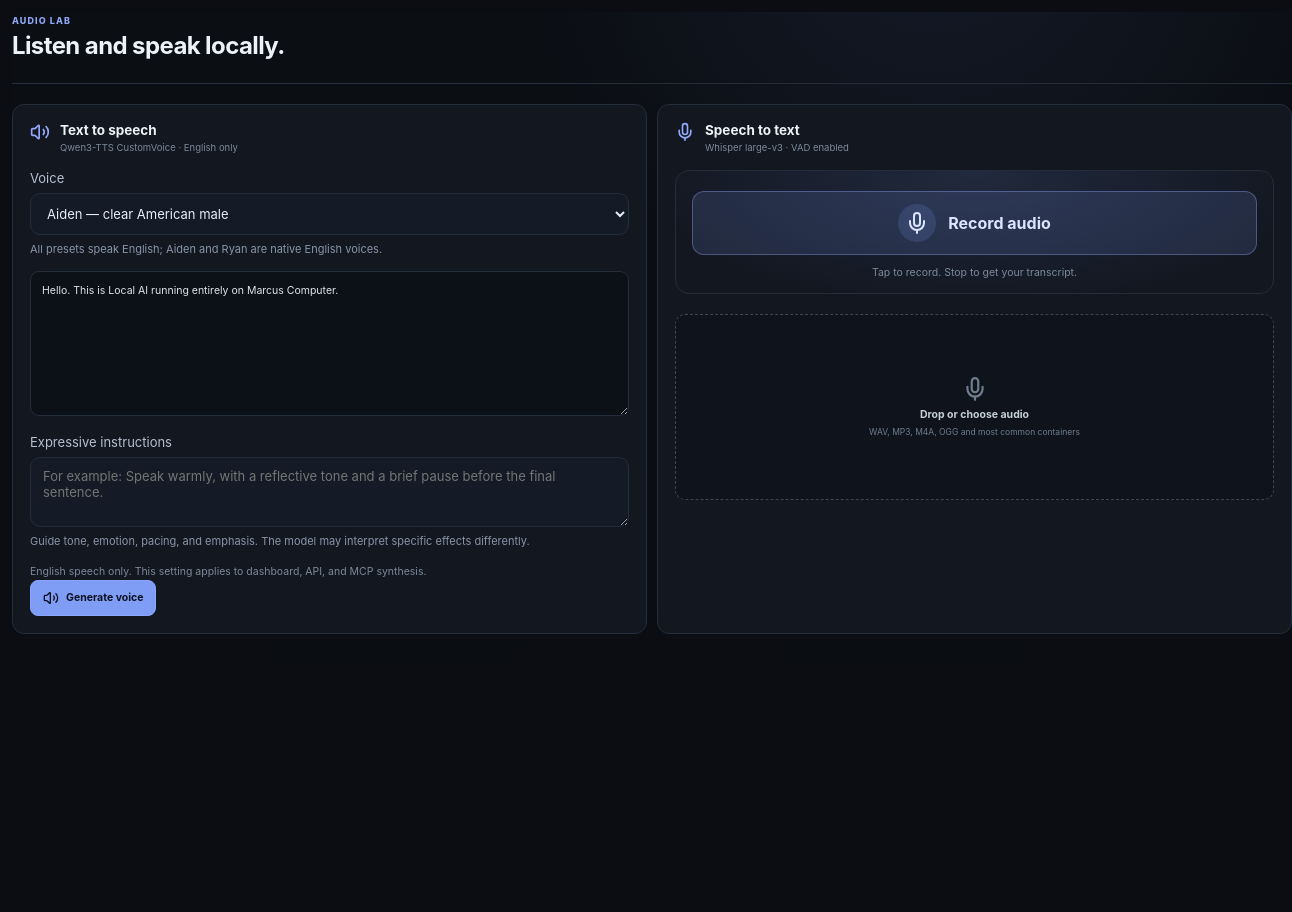
it: SpeechPanel microphone recording › discards a pending final audio event when unmounted while the recorder is stopping
The image size is (1292, 912).
What coordinates should you click on to do the following:
click the button "Record audio"
I would click on:
 (974, 223)
Its box is [692,191,1257,255].
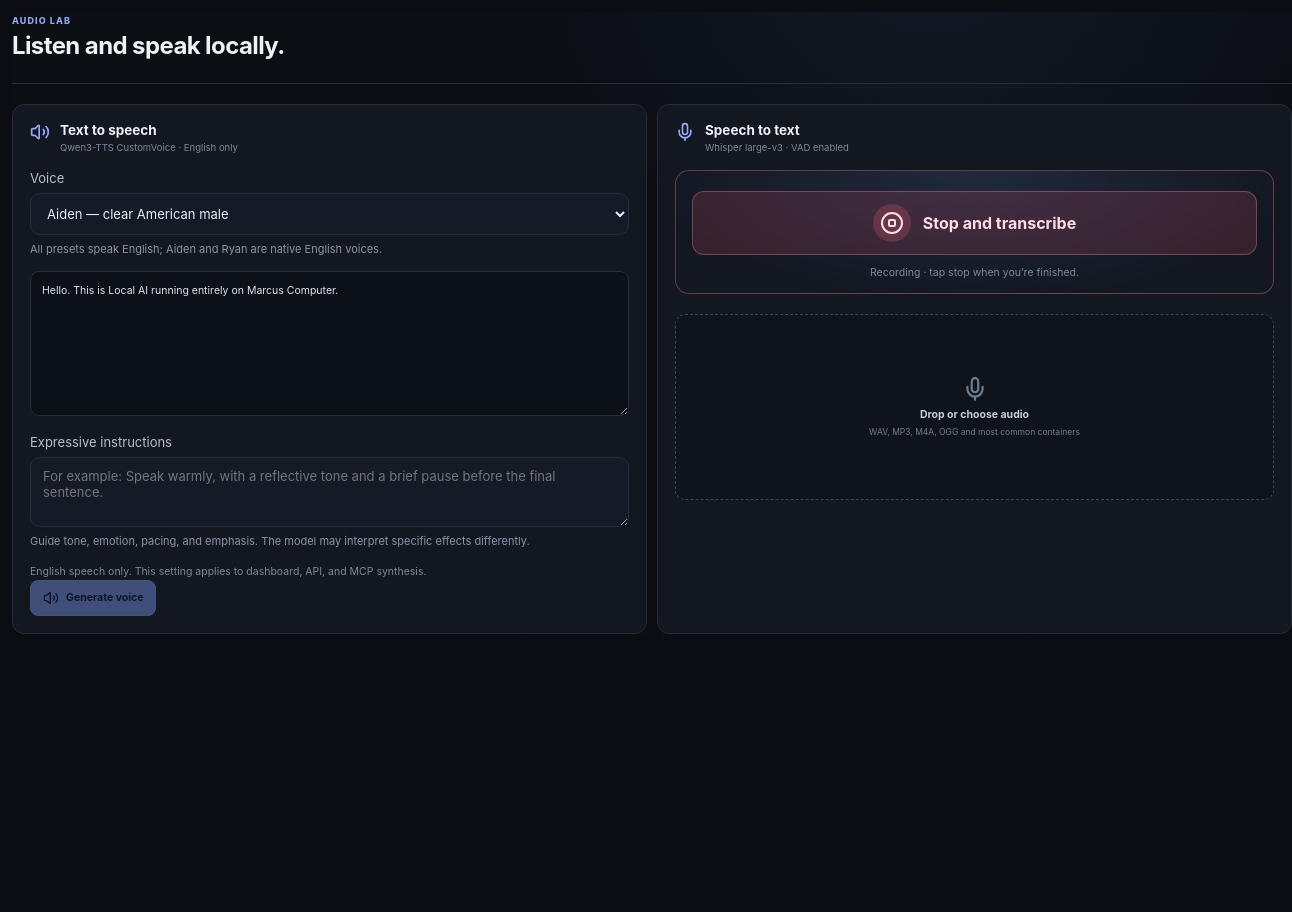
Expected: the button "Stop and transcribe" is shown
What coordinates should you click on to do the following:
click the button "Stop and transcribe"
I would click on:
 (974, 223)
Its box is [692,191,1257,255].
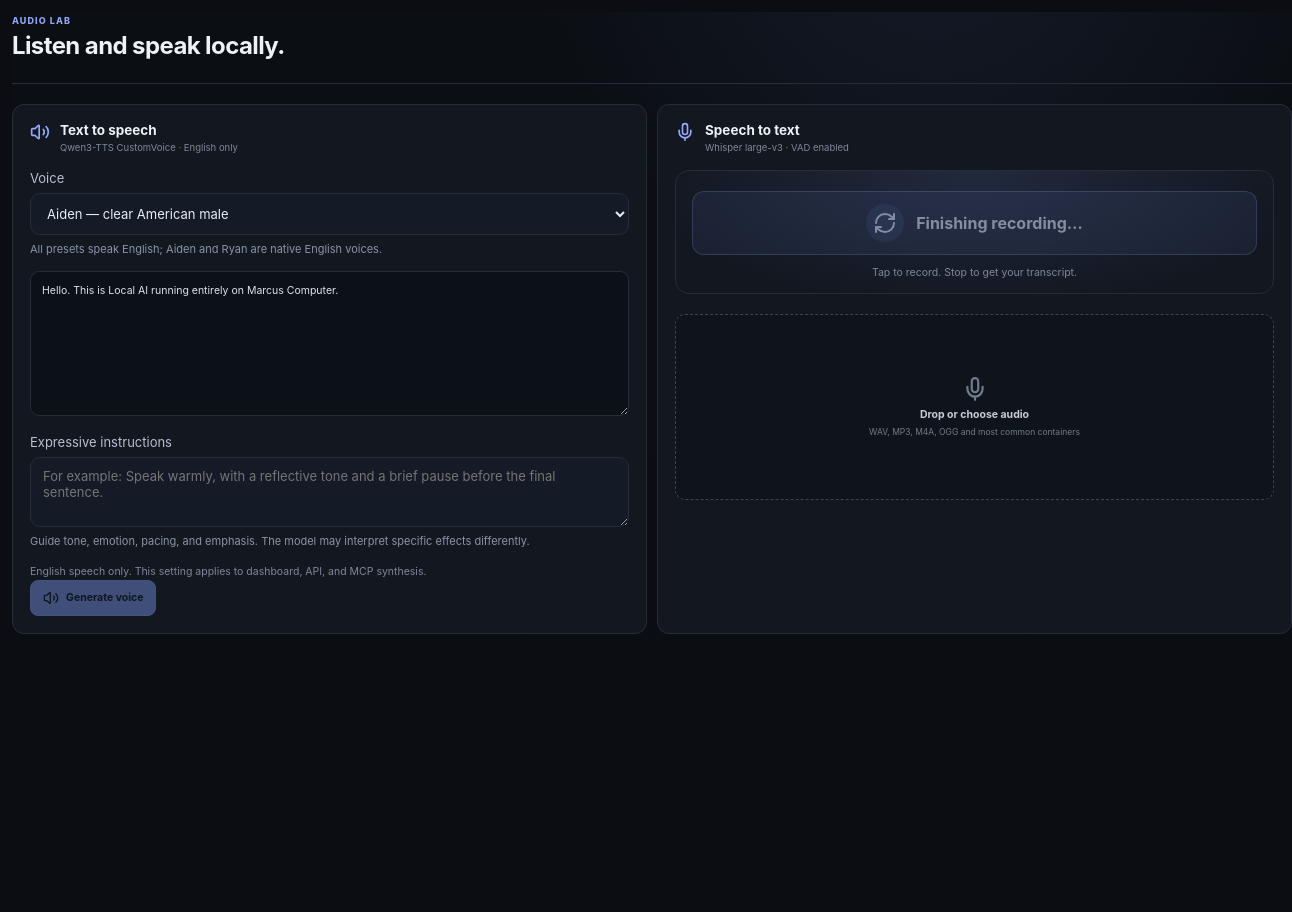
Expected: the button "Finishing recording…" is disabled, [692,191,1257,255]
